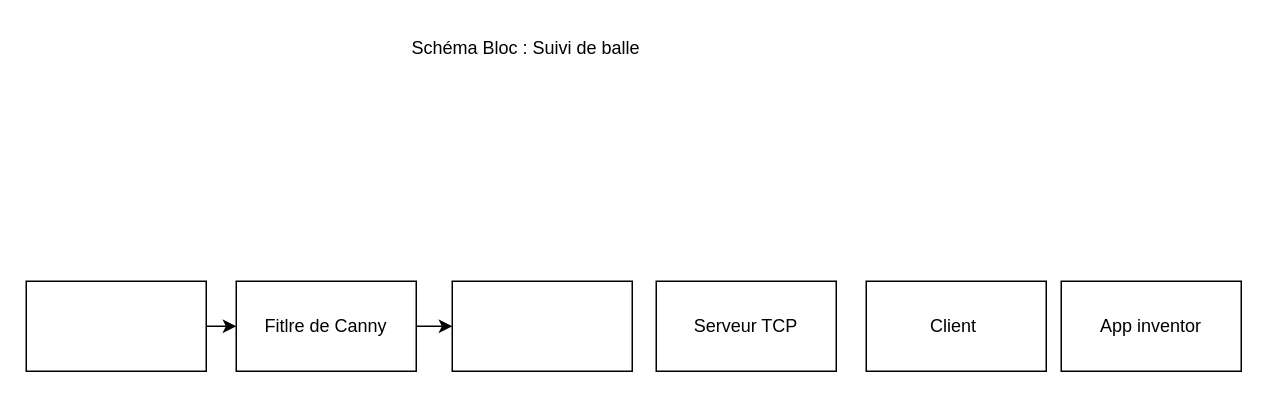
The diagram is 1268 pixels wide and 398 high, and some of its shapes have lost their labels. The box of each missing label's shape, as (x1, y1, x2, y2) in pixels:
Camera: (25, 280, 206, 371)
Transformée de Hough: (451, 280, 632, 371)
